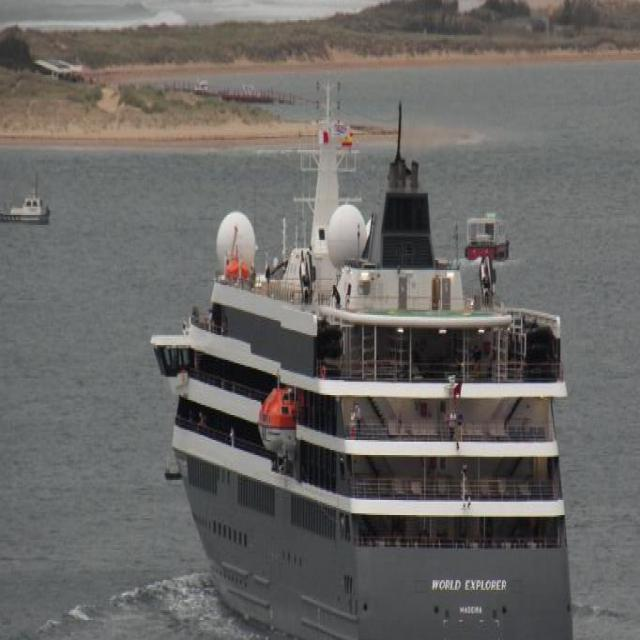cruises: (148, 117, 579, 640)
